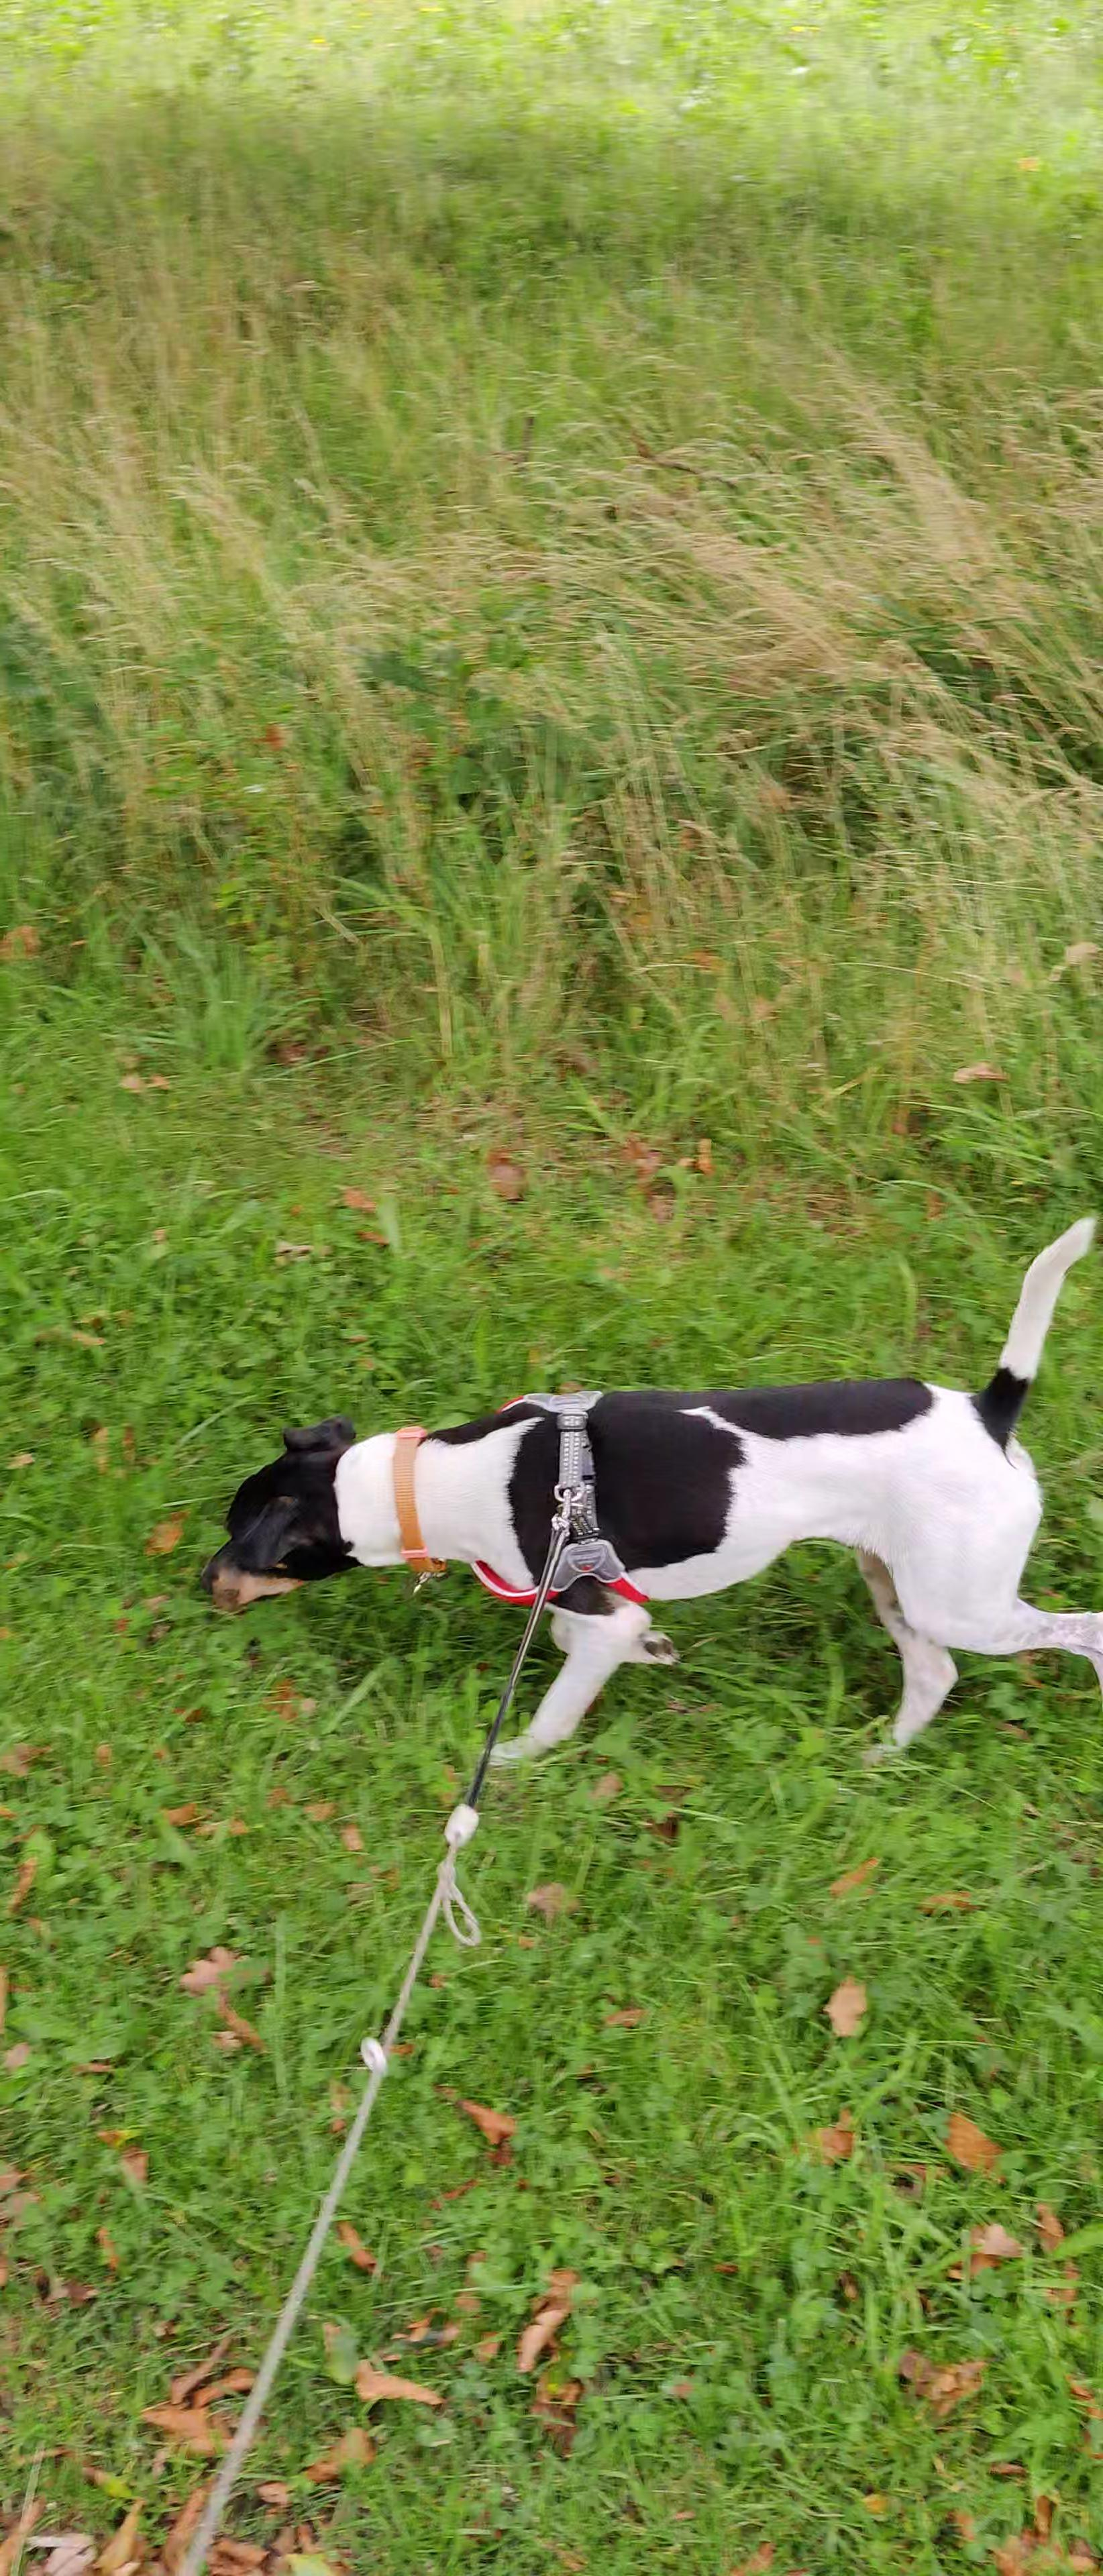Dog: (191, 1211, 1103, 1764)
